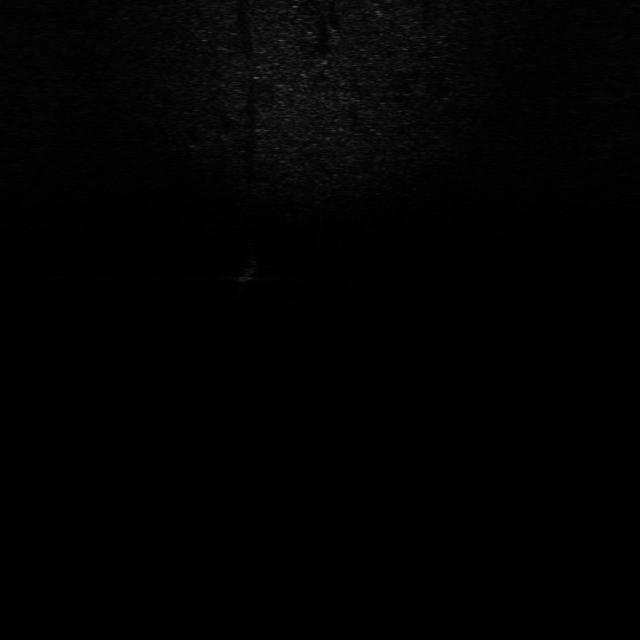human body: (230, 240, 270, 298)
